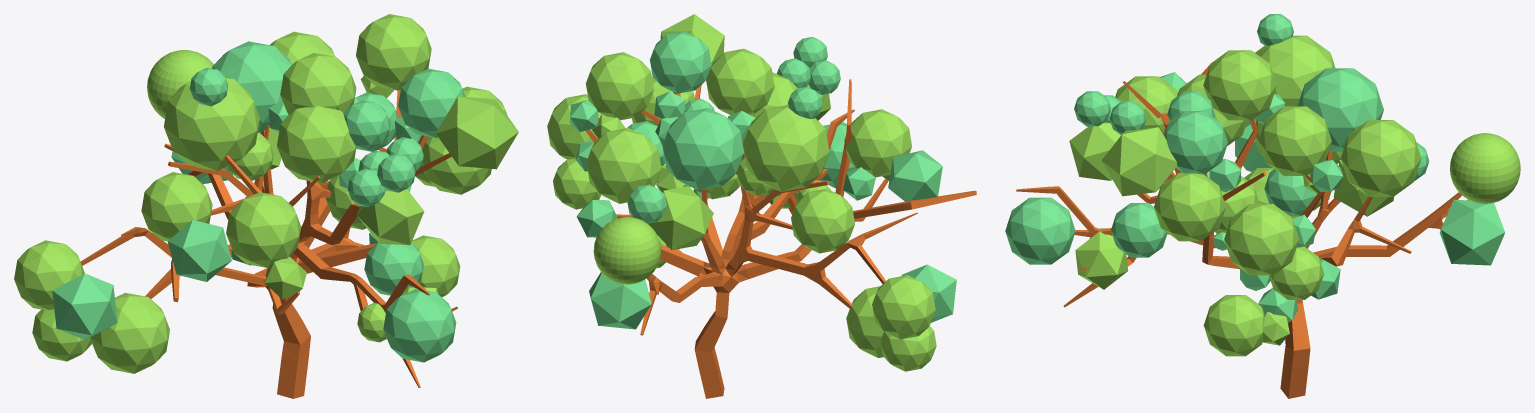
The model's file is arbol_tipo_2.fbx.
The picture shows the model from 3 angles, left to right: view 1: azimuth 30°, elevation 25°; view 2: azimuth 150°, elevation 25°; view 3: azimuth 270°, elevation 25°; orthographic projection. The views are drawn at different scales.
Parts seen in each view (by area): view 1: Cube, Icosphere.037, Icosphere.028, Icosphere.047, Icosphere.039, Icosphere.016, Icosphere.011, Icosphere.036, Icosphere.026, Icosphere.045, Icosphere.044, Icosphere.049 (+20 smaller); view 2: Cube, Icosphere.037, Icosphere.044, Icosphere.031, Sphere, Icosphere.011, Icosphere.026, Icosphere.039, Icosphere.045, Icosphere.048, Icosphere.017, Icosphere.030 (+26 smaller); view 3: Cube, Icosphere.031, Icosphere.044, Icosphere, Icosphere.026, Sphere, Icosphere.011, Icosphere.008, Icosphere.036, Icosphere.016, Icosphere.043, Icosphere.017 (+23 smaller).
Part boxes in pixels (box(x1,y1,x2,y2)): Cube: box(80, 89, 457, 398); Icosphere.037: box(164, 77, 259, 171); Icosphere.028: box(277, 106, 356, 183); Icosphere.047: box(90, 292, 169, 373); Icosphere.039: box(226, 192, 301, 267); Icosphere.016: box(436, 96, 518, 169); Icosphere.011: box(356, 14, 431, 90); Icosphere.036: box(383, 289, 456, 362); Icosphere.026: box(280, 52, 356, 114); Icosphere.045: box(141, 172, 212, 241); Icosphere.044: box(212, 41, 291, 132); Icosphere.049: box(52, 273, 117, 339); Cube: box(586, 79, 976, 398); Icosphere.037: box(742, 105, 829, 191); Icosphere.044: box(662, 108, 743, 190); Icosphere.031: box(586, 128, 661, 203); Sphere: box(593, 217, 660, 284); Icosphere.011: box(585, 52, 653, 120); Icosphere.026: box(706, 48, 774, 114); Icosphere.039: box(844, 109, 911, 177); Icosphere.045: box(791, 188, 854, 253); Icosphere.048: box(872, 275, 935, 339); Icosphere.017: box(650, 31, 711, 93); Icosphere.030: box(648, 186, 713, 249); Cube: box(1016, 65, 1468, 398); Icosphere.031: box(1340, 120, 1421, 196); Icosphere.044: box(1297, 68, 1383, 151); Icosphere: box(1224, 204, 1299, 275); Icosphere.026: box(1203, 50, 1276, 120); Sphere: box(1450, 133, 1520, 203); Icosphere.011: box(1258, 106, 1331, 175); Icosphere.008: box(1154, 172, 1225, 241); Icosphere.036: box(1005, 197, 1075, 264); Icosphere.016: box(1101, 127, 1177, 196); Icosphere.043: box(1439, 199, 1504, 265); Icosphere.017: box(1164, 111, 1227, 174).
Size of the model in its own units: 2653 by 2028 by 2772.
